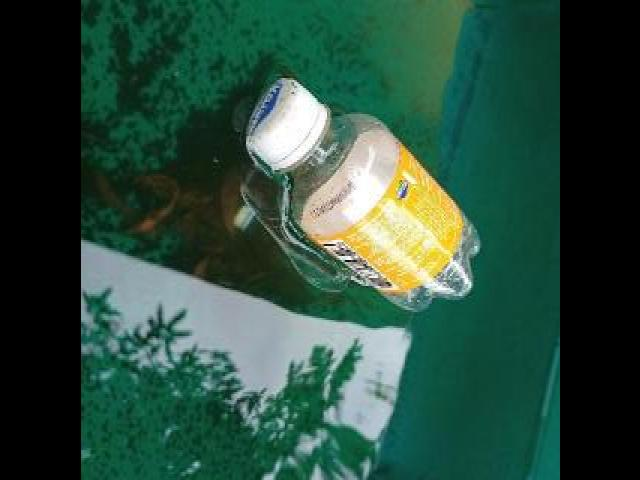Bottle: (240, 76, 483, 316)
